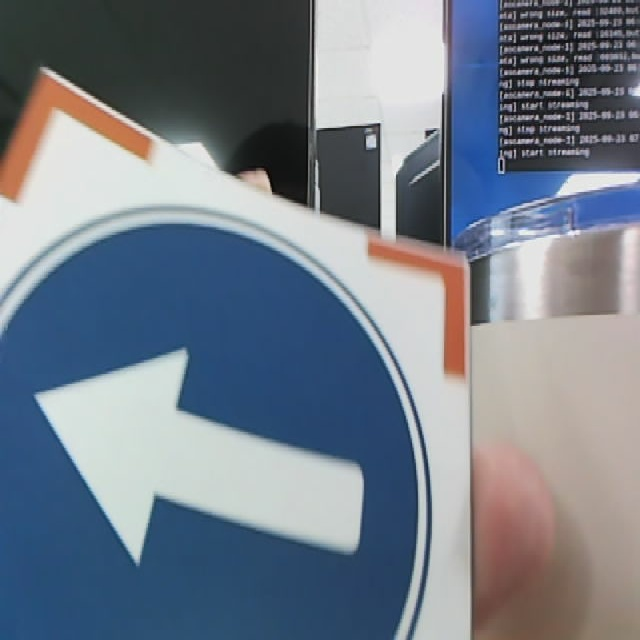strait: (3, 63, 478, 640)
